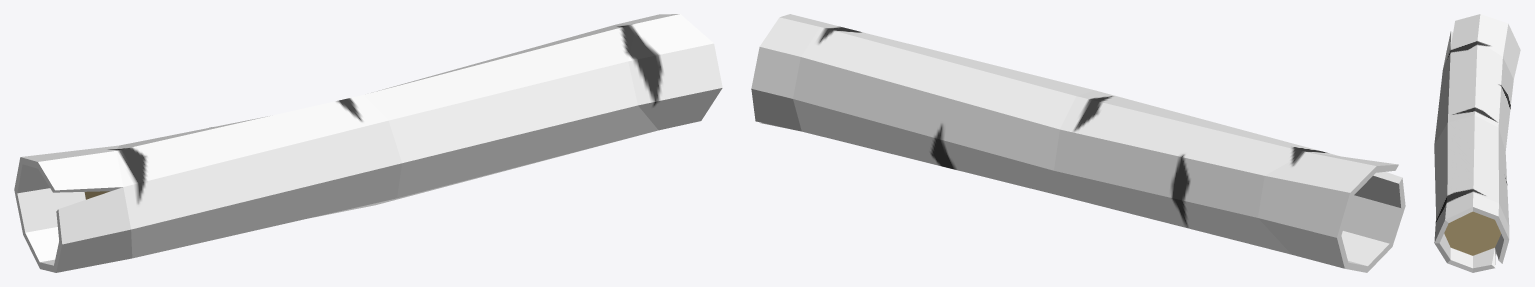
The model's file is Birch_Log_07.fbx.
3 views of the same model, side by side, from view 1: azimuth 30°, elevation 25°; view 2: azimuth 150°, elevation 25°; view 3: azimuth 270°, elevation 25° (orthographic). The views are drawn at different scales.
Visible parts, largest first — view 1: Birch_Log_07; view 2: Birch_Log_07; view 3: Birch_Log_07.
Boxes of the visible parts, bbox=[...] form: Birch_Log_07: bbox=[14, 14, 722, 272]; Birch_Log_07: bbox=[751, 14, 1405, 272]; Birch_Log_07: bbox=[1434, 14, 1520, 272].
Bounding box in the file's own units: 201 × 33.58 × 37.62.
